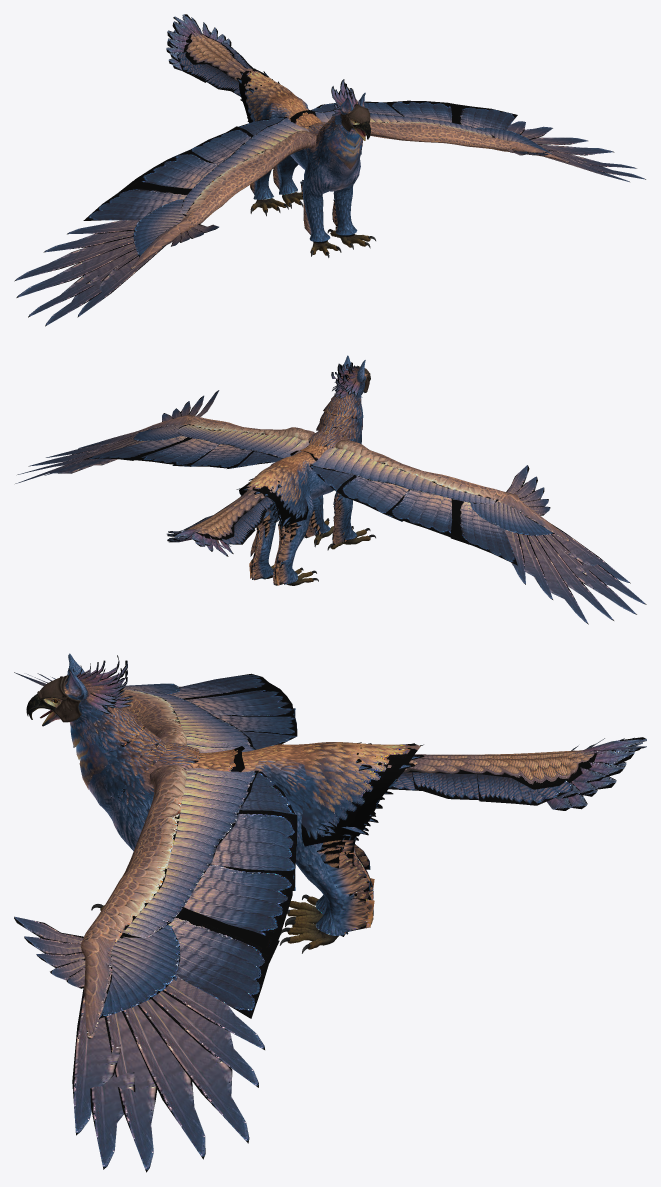
The model's file is cloudrest-gryphon-overview-v1.glb.
3 views of the same model, one above another, from view 1: azimuth 30°, elevation 25°; view 2: azimuth 150°, elevation 25°; view 3: azimuth 270°, elevation 25° (orthographic). The views are drawn at different scales.
Parts seen in each view (by area): view 1: cloudrest-gryphon; view 2: cloudrest-gryphon; view 3: cloudrest-gryphon.
Part boxes in pixels (x1,y1,x2,y2): cloudrest-gryphon: (14,14,645,326); cloudrest-gryphon: (15,355,646,624); cloudrest-gryphon: (14,653,646,1172).
Bounding box in the file's own units: 7.43 × 2 × 4.1.
Materials: 1 (1 with a texture image).
